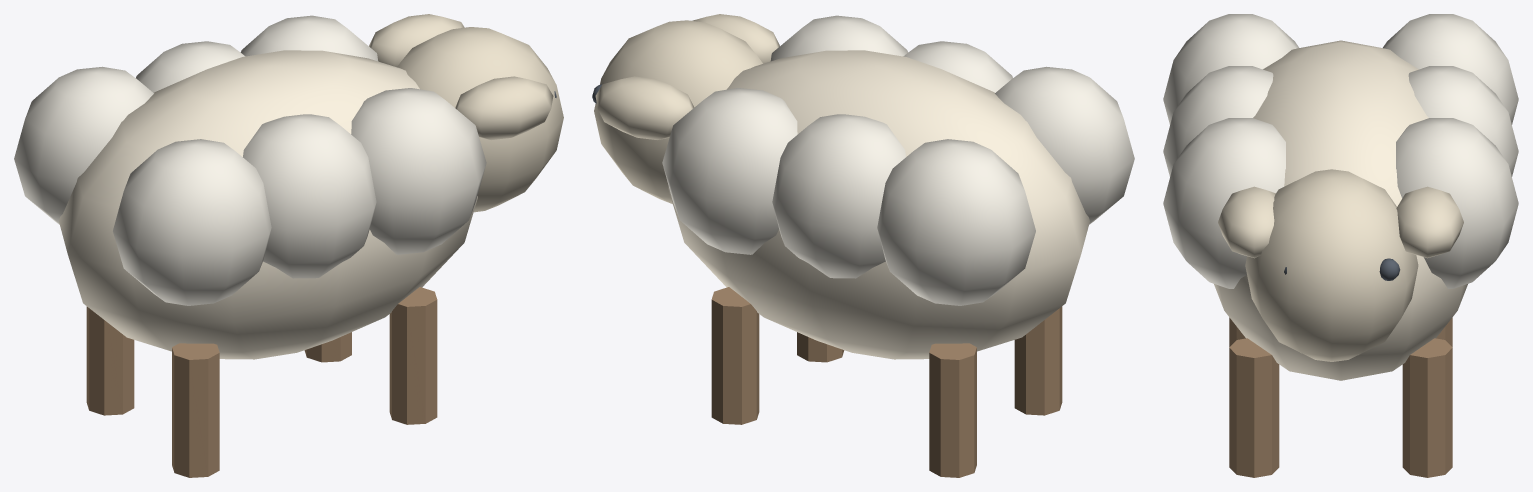
Rendered from farm-sheep.glb.
3 views of the same model, side by side, from view 1: azimuth 30°, elevation 25°; view 2: azimuth 150°, elevation 25°; view 3: azimuth 270°, elevation 25° (orthographic).
Parts seen in each view (by area): view 1: wool body; view 2: wool body; view 3: wool body.
Part boxes in pixels (x1,y1,x2,y2): wool body: [14, 14, 563, 477]; wool body: [592, 14, 1134, 477]; wool body: [1163, 14, 1518, 477].
Size of the model in its own units: 1.24 by 0.84 by 0.78.
